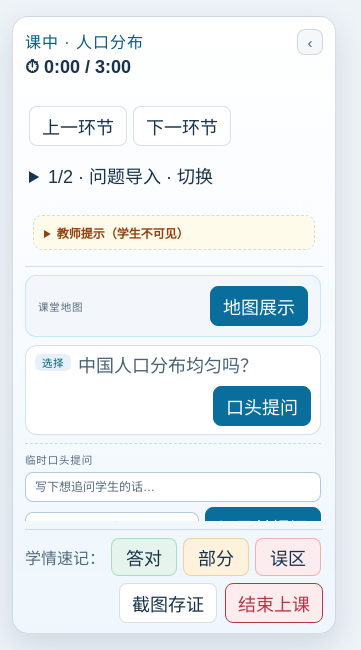
Scenario: ClassRunPanel › keeps teacher guidance in a collapsed teacher-only panel
The width and height of the screenshot is (361, 650).
Click the heading "教师提示（学生不可见）". click: (123, 234)
box: [57,227,189,241]
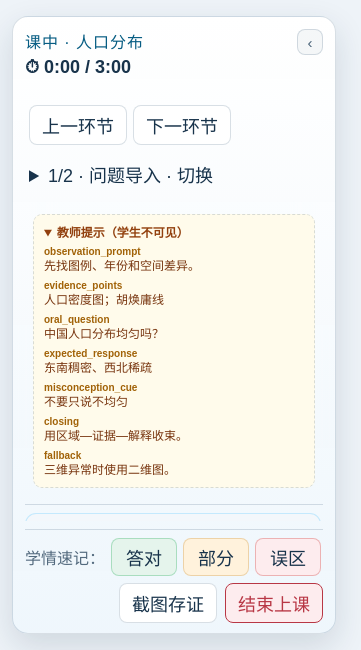
Result: the text "先找图例、年份和空间差异。" is shown at [44,259,200,273]
